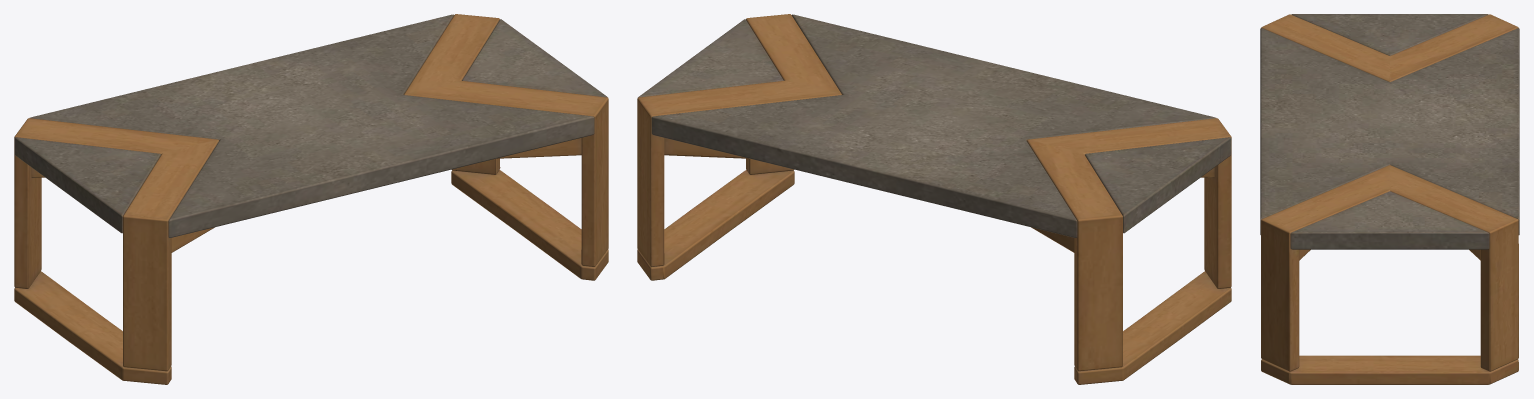
File: coffee-table.glb
The picture shows the model from 3 angles, left to right: view 1: azimuth 30°, elevation 25°; view 2: azimuth 150°, elevation 25°; view 3: azimuth 270°, elevation 25°; orthographic projection. The views are drawn at different scales.
Visible parts, largest first — view 1: modern_coffee_table_01; view 2: modern_coffee_table_01; view 3: modern_coffee_table_01.
Boxes of the visible parts, left/top/right/bottom form: modern_coffee_table_01: left=14, top=14, right=608, bottom=384; modern_coffee_table_01: left=637, top=14, right=1231, bottom=384; modern_coffee_table_01: left=1260, top=14, right=1519, bottom=384.
Size of the model in its own units: 1.2 by 0.39 by 0.6.
Materials: 1 (1 with a texture image).
